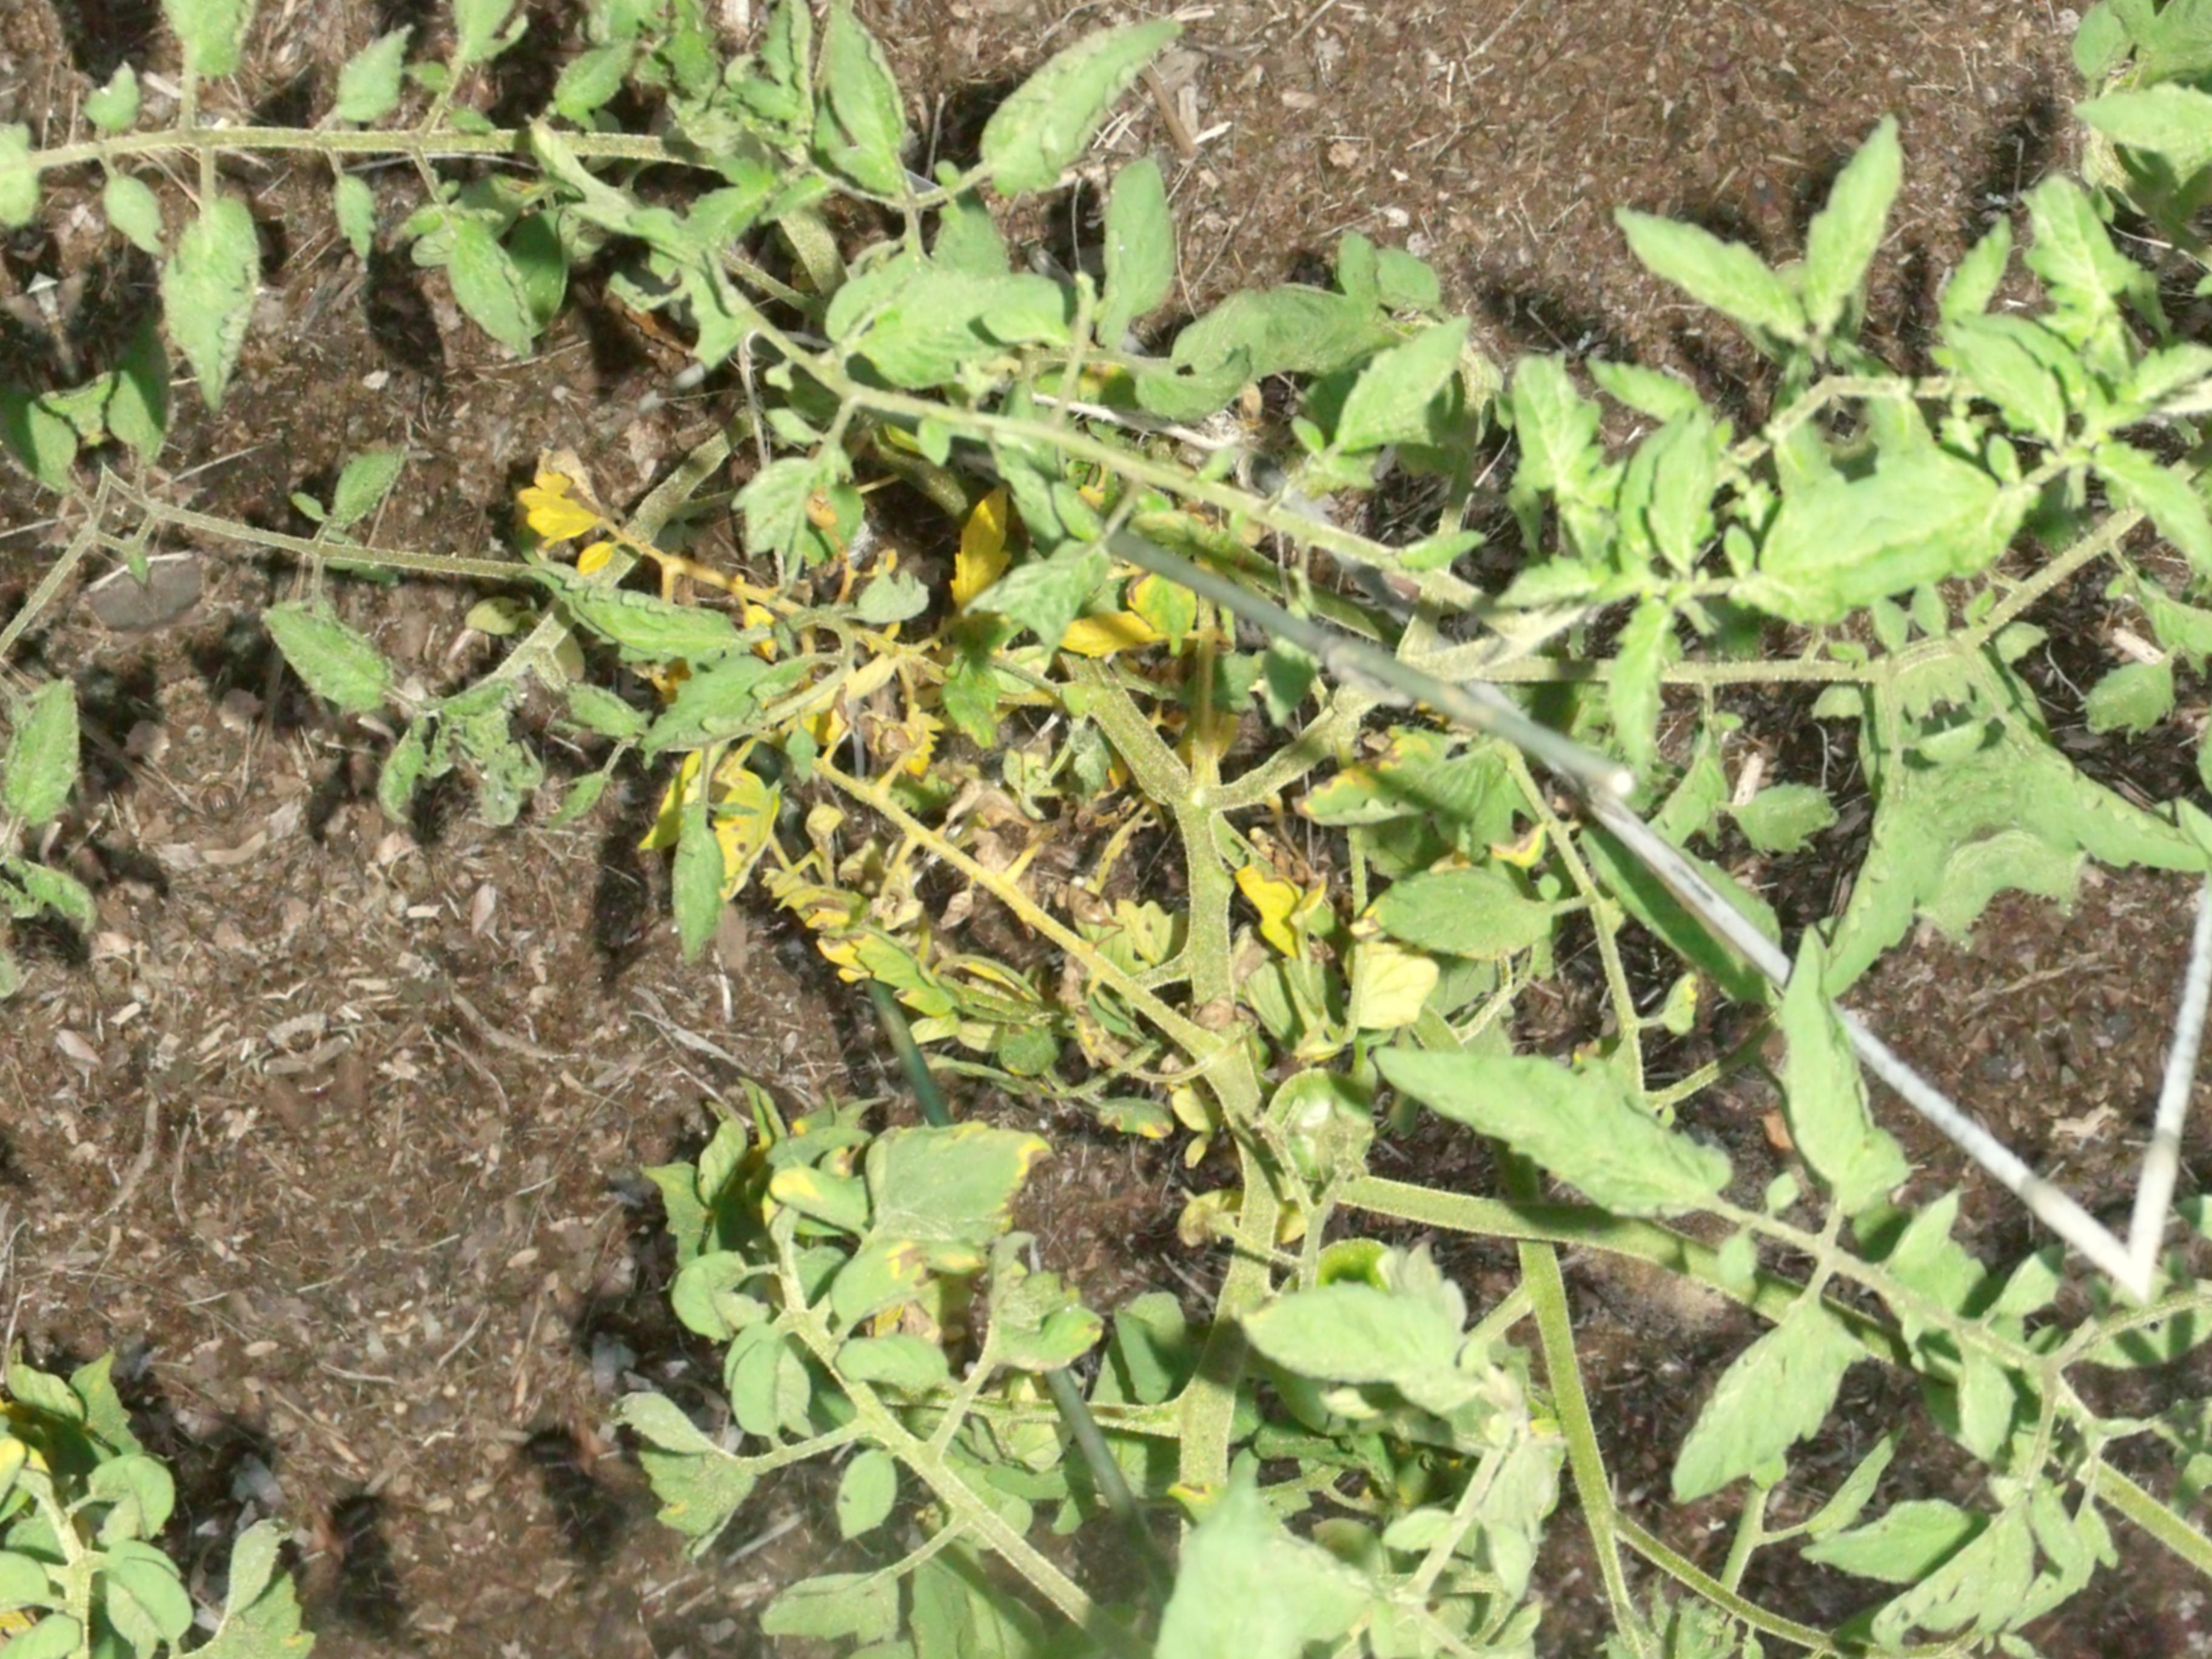Tomato leaf bacterial spot: (1372, 964, 1754, 1314), (1709, 896, 1949, 1253), (1620, 1291, 1933, 1542), (1221, 1218, 1521, 1467), (1461, 315, 1684, 629), (1261, 666, 1543, 906), (822, 1061, 1080, 1316), (1264, 279, 1514, 528), (1012, 134, 1233, 392), (533, 514, 801, 727), (1318, 796, 1573, 1012), (921, 1218, 1155, 1406)
